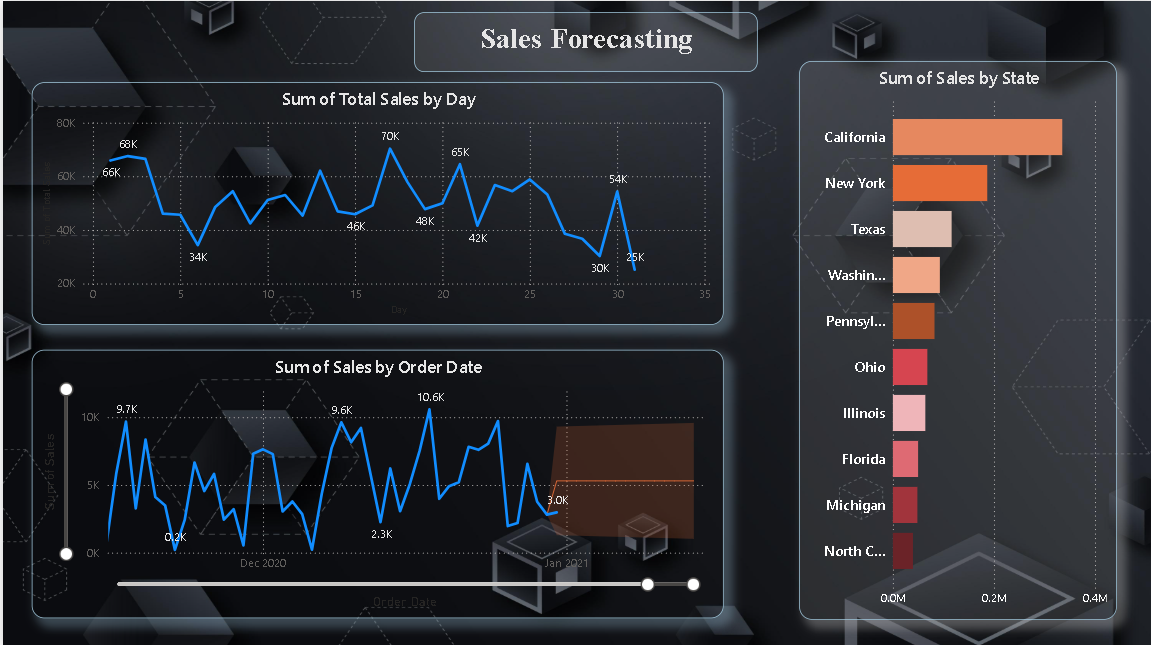

What the dashboard file says about the page in this screenshot:
{"tool":"powerbi","page":{"name":"Page 2","canvas":[1280,720],"ordinal":1},"visuals":[{"type":"lineChart","fields":{"Category":["SuperStore_Sales_Dataset.Order Date"],"Y":["Sum(SuperStore_Sales_Dataset.Sales)"]},"box":[31.3,388,768.7,298.8],"z":1},{"type":"lineChart","fields":{"Category":["SalesForecast.Order Date.Variation.Date Hierarchy.Day"],"Y":["Sum(SalesForecast.Total Sales)"]},"box":[31.3,90.4,768.7,269.9],"z":2},{"type":"barChart","fields":{"Category":["SuperStore_Sales_Dataset.State"],"Y":["Sum(SuperStore_Sales_Dataset.Sales)"]},"box":[884.3,66.3,353,620.5],"z":3},{"type":"textbox","box":[456.6,12,381.9,66.3],"z":4}]}

Visuals, with their boxes in screenshot pixels (x1, y1, x2, y2), scaled from the page's 1280x720 canvas onto the 1151x645 screenshot:
lineChart - SuperStore_Sales_Dataset.Order Date x Sum(SuperStore_Sales_Dataset.Sales): BBox(28, 348, 719, 615)
lineChart - SalesForecast.Order Date.Variation.Date Hierarchy.Day x Sum(SalesForecast.Total Sales): BBox(28, 81, 719, 323)
barChart - SuperStore_Sales_Dataset.State x Sum(SuperStore_Sales_Dataset.Sales): BBox(795, 59, 1113, 615)
textbox: BBox(411, 11, 754, 70)
